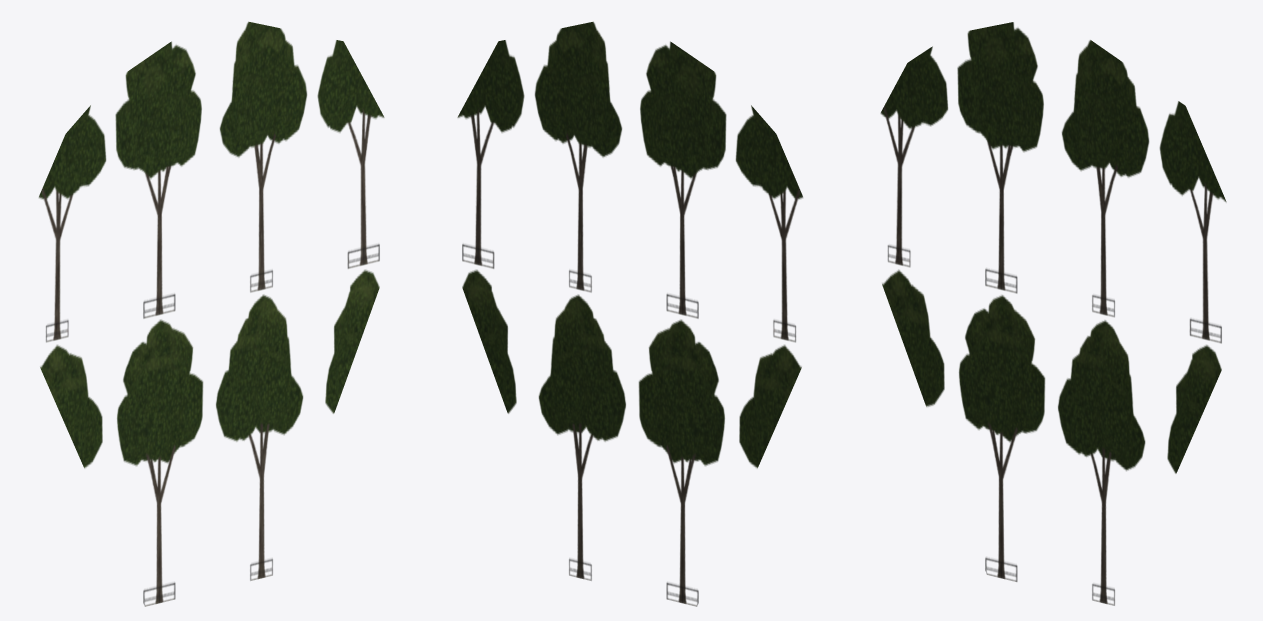
Rendered from tree_cards.glb.
3 views of the same model, side by side, from view 1: azimuth 30°, elevation 25°; view 2: azimuth 150°, elevation 25°; view 3: azimuth 330°, elevation 25° (orthographic).
Visible parts, largest first — view 1: tree_card; view 2: tree_card; view 3: tree_card.
Boxes of the visible parts, box(x1,y1,x2,y2) form: tree_card: box(39, 21, 384, 606); tree_card: box(457, 21, 802, 606); tree_card: box(880, 22, 1226, 605).
Bounding box in the file's own units: 5.58 × 7.83 × 0.
Materials: 1 (1 with a texture image).
